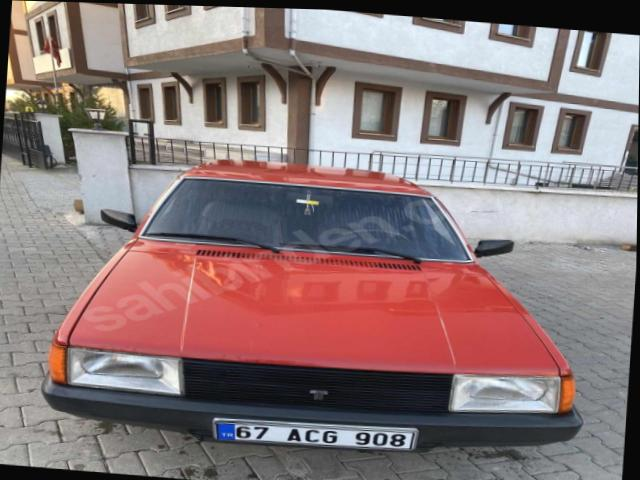plaka: (214, 418, 418, 450)
